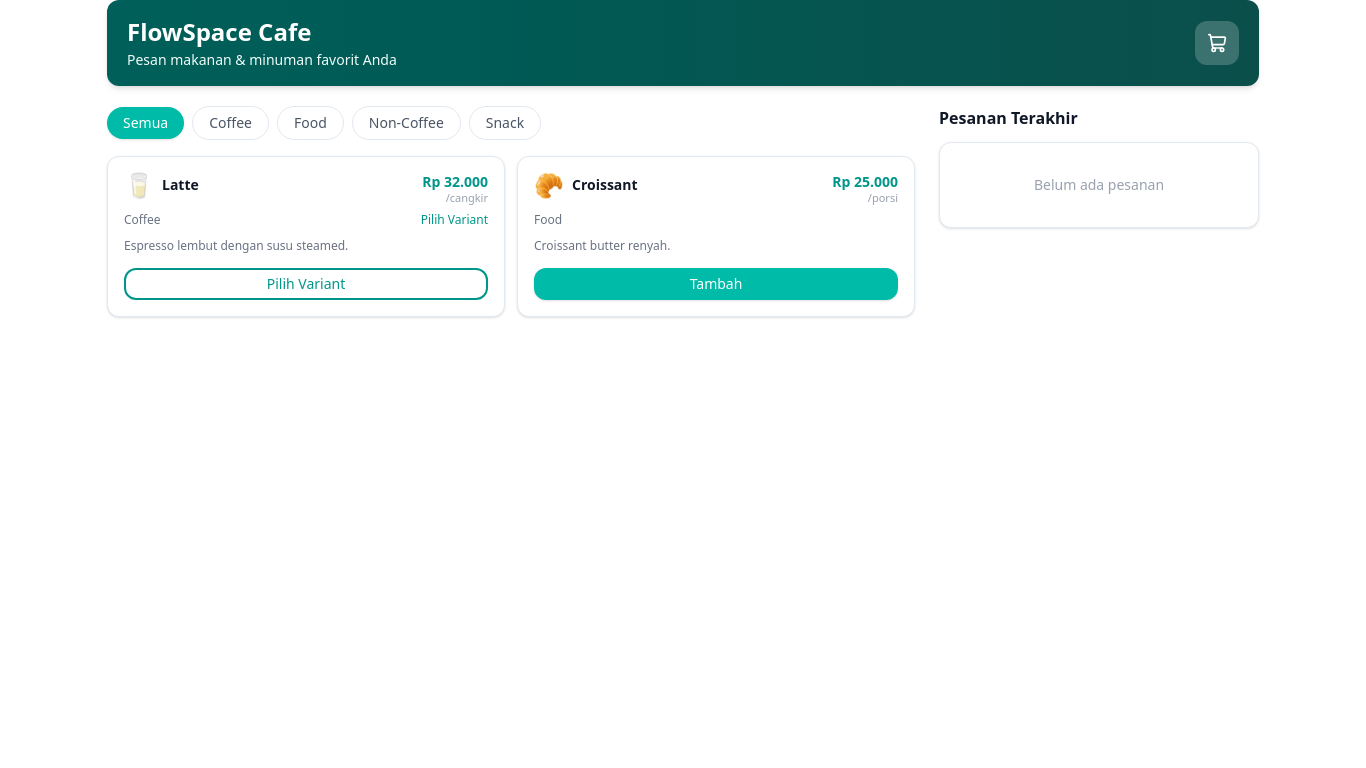
it: CafeClient (AC-101) › AC-102: shows generic fallback error for unknown sentinel
This screenshot has width=1366, height=768.
Click the button "Tambah": (716, 284) [534,268,898,300]
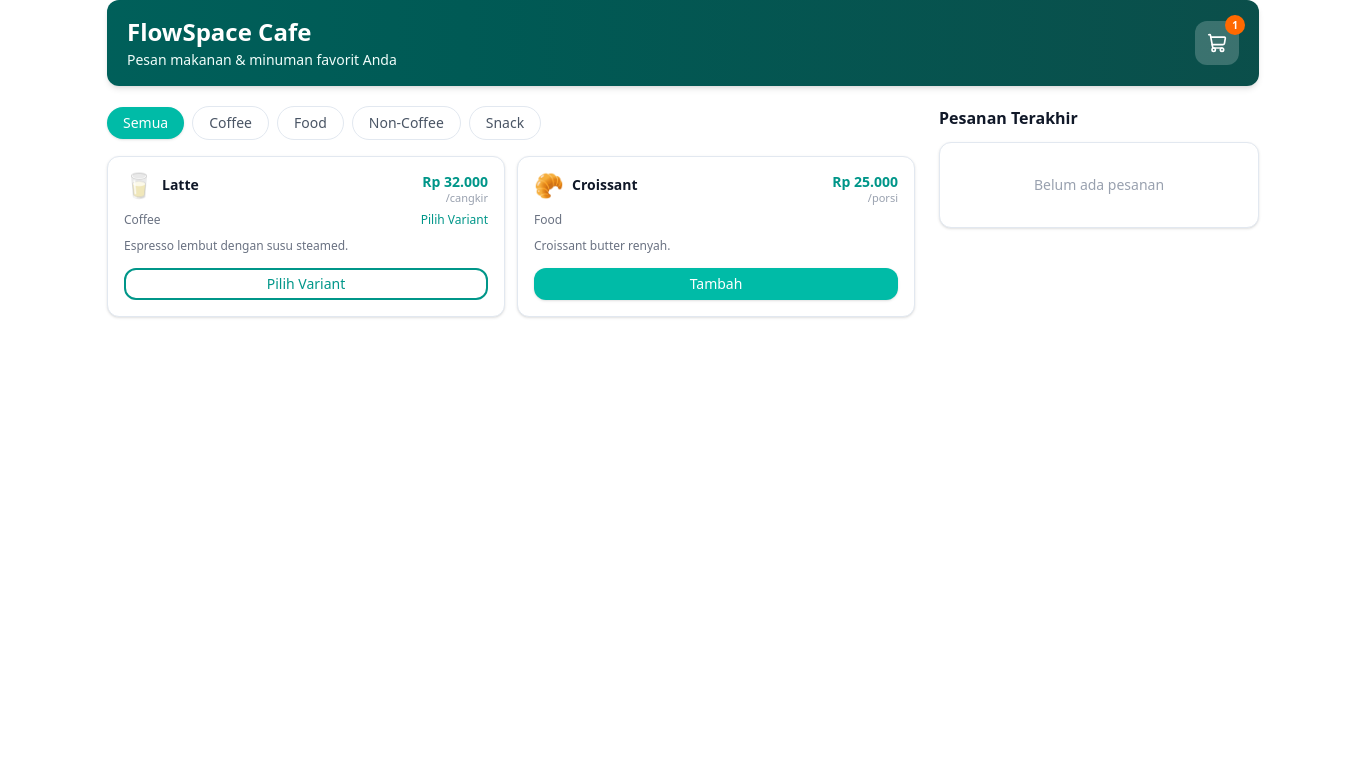
Click the button named "buka keranjang": (1217, 43) [1195,21,1239,65]
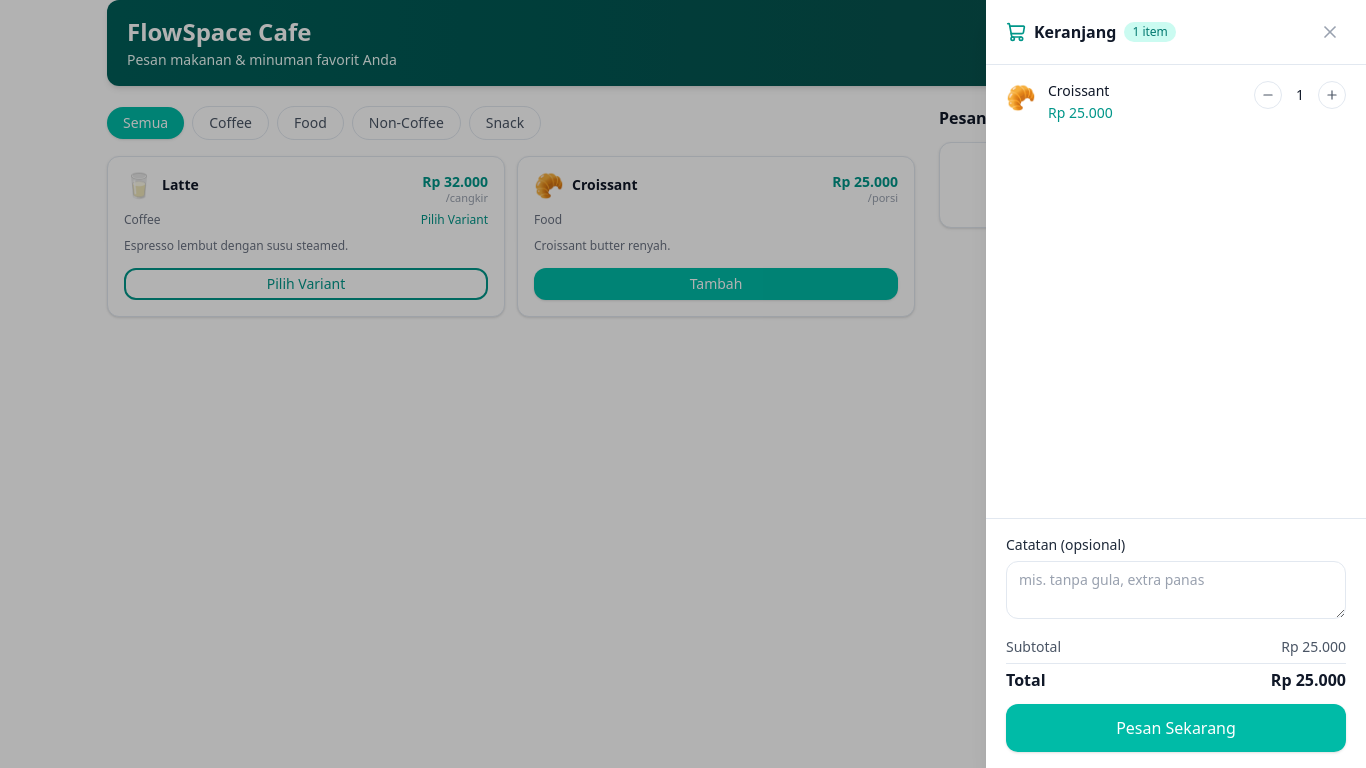
Click the button "Pesan Sekarang": (1176, 728) [1006,704,1346,752]
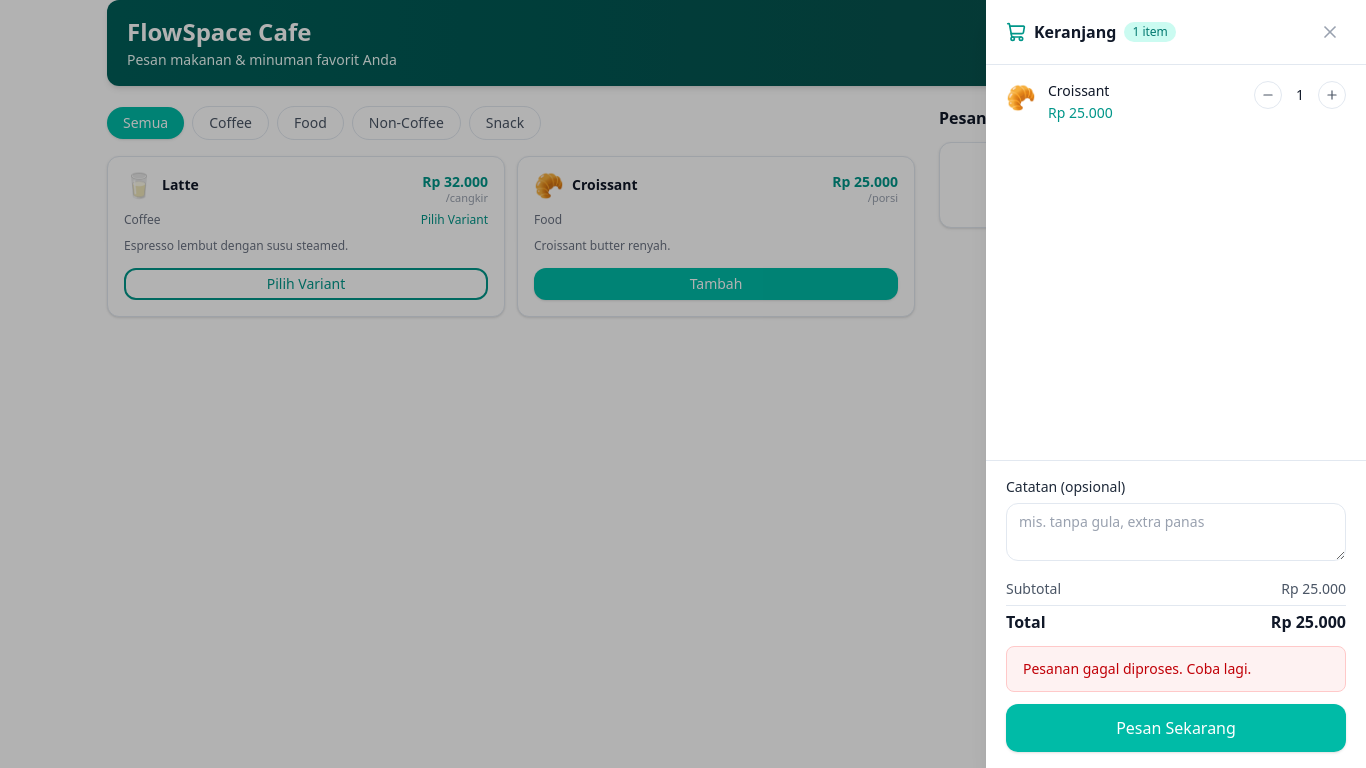
Expected: the message shows "Pesanan gagal diproses", [1023,659,1251,678]
